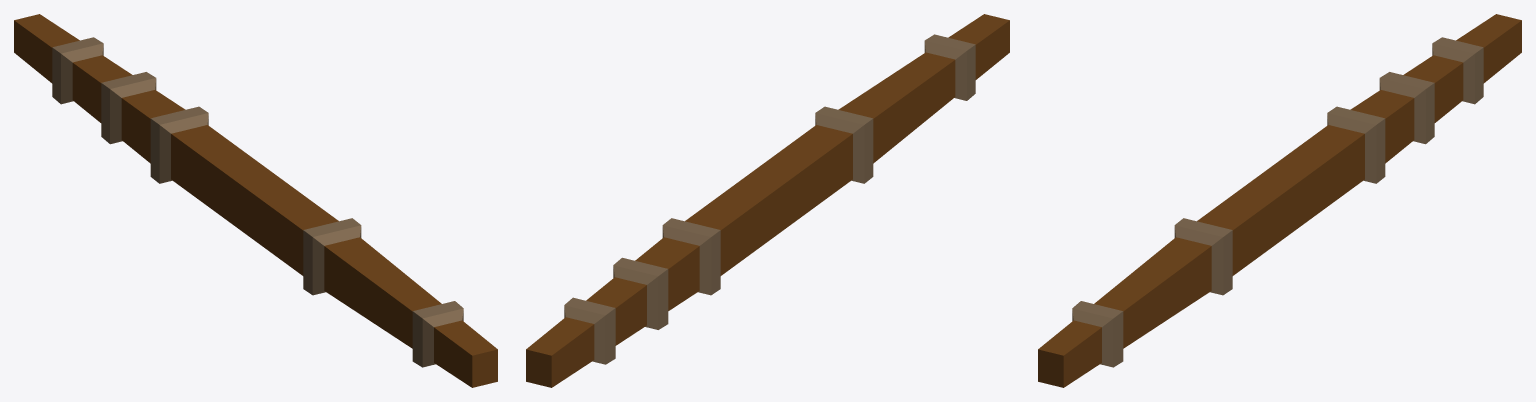
The model's file is Spar.fbx.
The picture shows the model from 3 angles, left to right: view 1: azimuth 30°, elevation 25°; view 2: azimuth 150°, elevation 25°; view 3: azimuth 330°, elevation 25°; orthographic projection.
Visible parts, largest first — view 1: Spar; view 2: Spar; view 3: Spar.
Boxes of the visible parts, x1=… form: Spar: x1=14, y1=14, x2=497, y2=387; Spar: x1=526, y1=14, x2=1009, y2=387; Spar: x1=1038, y1=14, x2=1521, y2=387.
Size of the model in its own units: 11.78 by 13.5 by 190.
